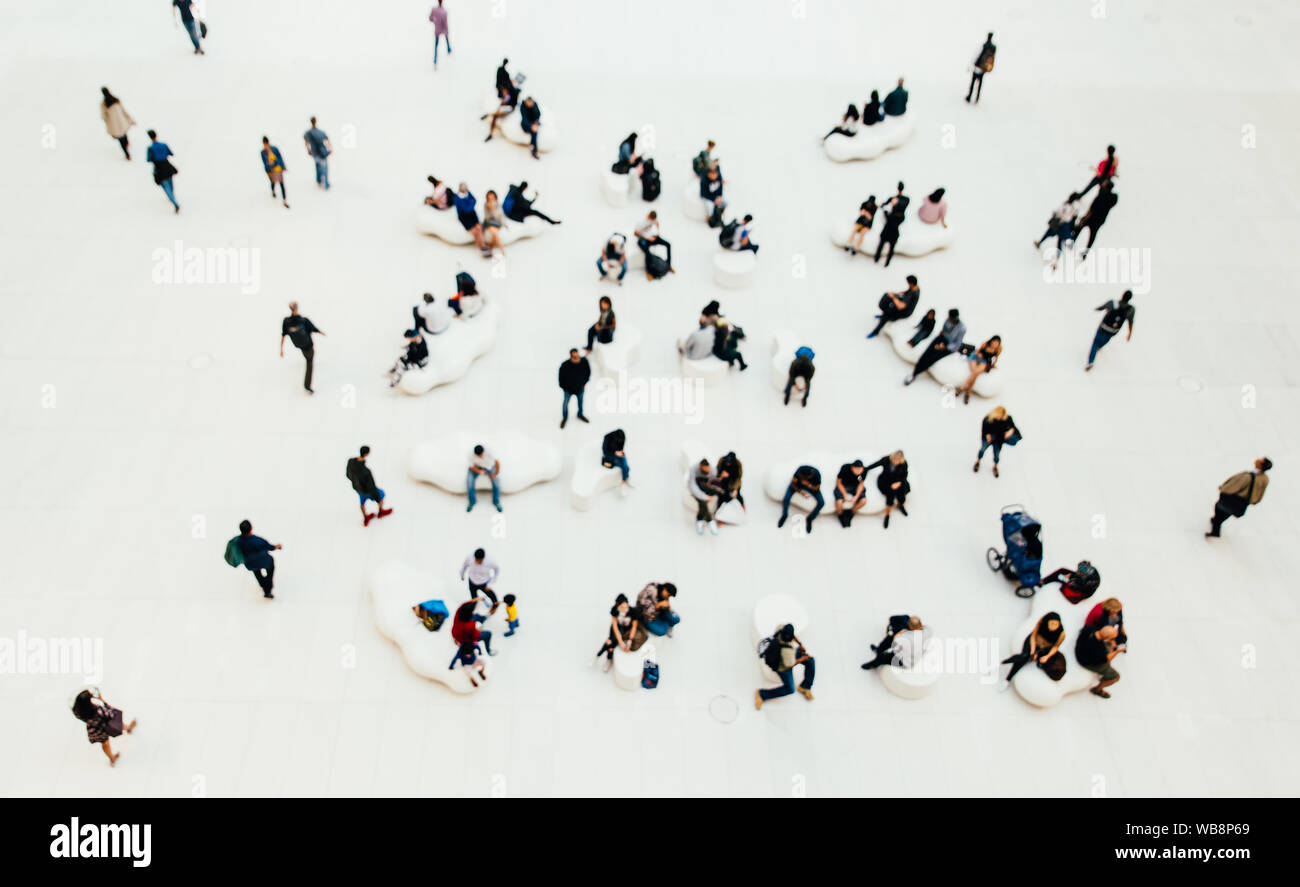person: (743, 620, 827, 713), (65, 684, 147, 769), (1208, 454, 1277, 551), (225, 514, 294, 607), (1076, 284, 1145, 375), (275, 295, 332, 400), (1000, 610, 1072, 690), (855, 605, 940, 671), (963, 402, 1025, 489), (339, 438, 399, 526), (903, 304, 966, 385), (1073, 186, 1132, 262), (851, 272, 923, 334), (592, 588, 643, 672), (871, 450, 921, 535), (1066, 133, 1124, 206), (870, 176, 913, 274), (1078, 624, 1129, 706), (93, 82, 143, 164), (143, 126, 189, 214), (951, 331, 1007, 402), (460, 441, 513, 513), (775, 463, 829, 533), (1032, 185, 1078, 266), (960, 29, 1005, 109), (598, 421, 646, 495), (684, 458, 728, 538), (501, 175, 572, 224), (1025, 563, 1104, 607), (551, 348, 596, 424), (577, 292, 634, 352), (301, 112, 342, 194), (448, 177, 488, 261), (711, 215, 771, 270), (456, 544, 506, 609), (479, 72, 524, 144), (1087, 594, 1138, 656), (258, 134, 301, 207), (385, 329, 439, 387), (640, 571, 687, 636), (779, 340, 823, 407), (446, 597, 497, 654), (631, 208, 680, 267), (832, 458, 870, 534), (714, 447, 753, 520), (417, 1, 458, 70), (168, 1, 216, 56), (839, 190, 877, 258), (476, 191, 515, 257), (713, 319, 758, 376), (589, 231, 640, 280), (397, 289, 455, 331), (518, 94, 551, 163), (815, 99, 863, 146), (446, 639, 489, 690), (876, 78, 924, 119), (418, 164, 458, 211), (672, 319, 714, 362), (638, 156, 672, 208), (917, 183, 956, 227), (610, 120, 642, 169), (699, 162, 734, 206), (442, 273, 487, 307), (689, 134, 727, 173), (500, 594, 525, 644), (906, 311, 943, 344), (490, 52, 514, 102), (698, 297, 736, 325), (864, 89, 888, 130)
